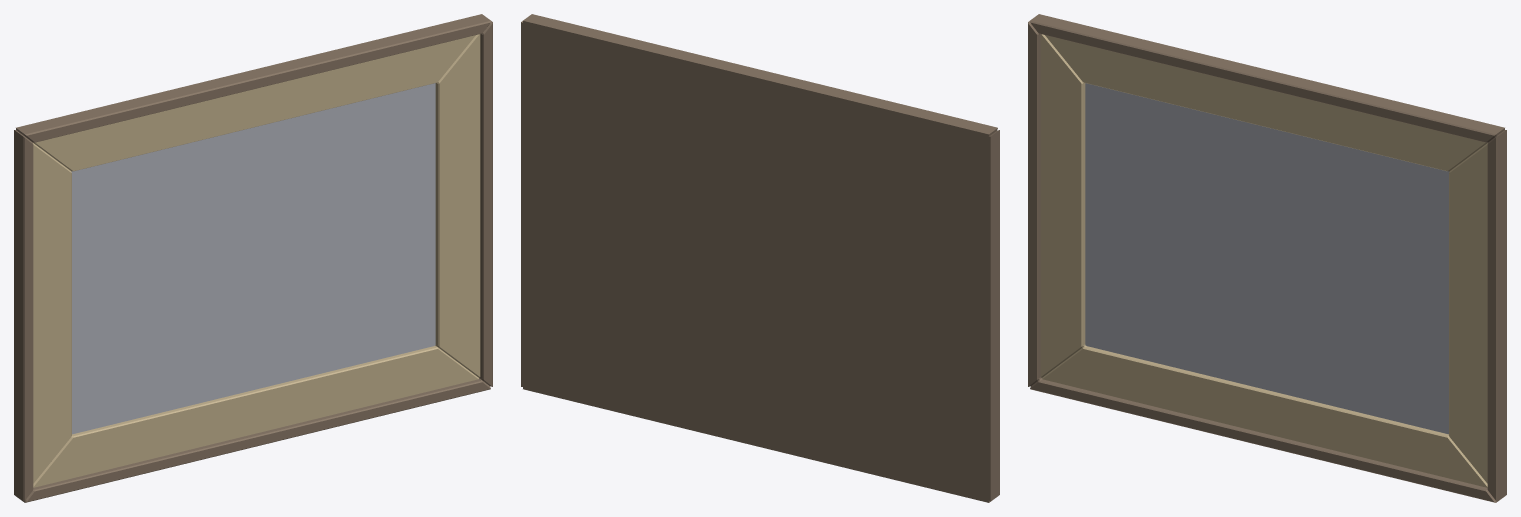
Rendered from CR_Picture.glb.
3 views of the same model, side by side, from view 1: azimuth 30°, elevation 25°; view 2: azimuth 150°, elevation 25°; view 3: azimuth 330°, elevation 25° (orthographic).
Visible parts, largest first — view 1: Picture; view 2: Picture; view 3: Picture.
Boxes of the visible parts, x1,y1,x2,y2 form: Picture: [14, 14, 492, 502]; Picture: [521, 14, 999, 502]; Picture: [1028, 14, 1506, 502].
Size of the model in its own units: 0.9251 by 0.6939 by 0.0335.
